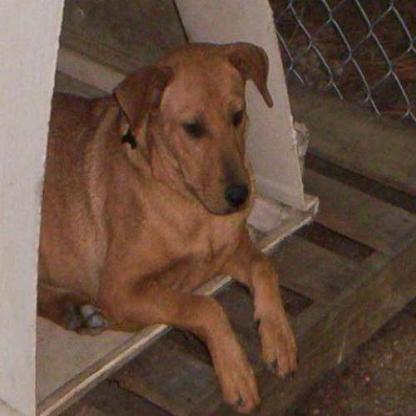dog: (96, 37, 309, 228)
